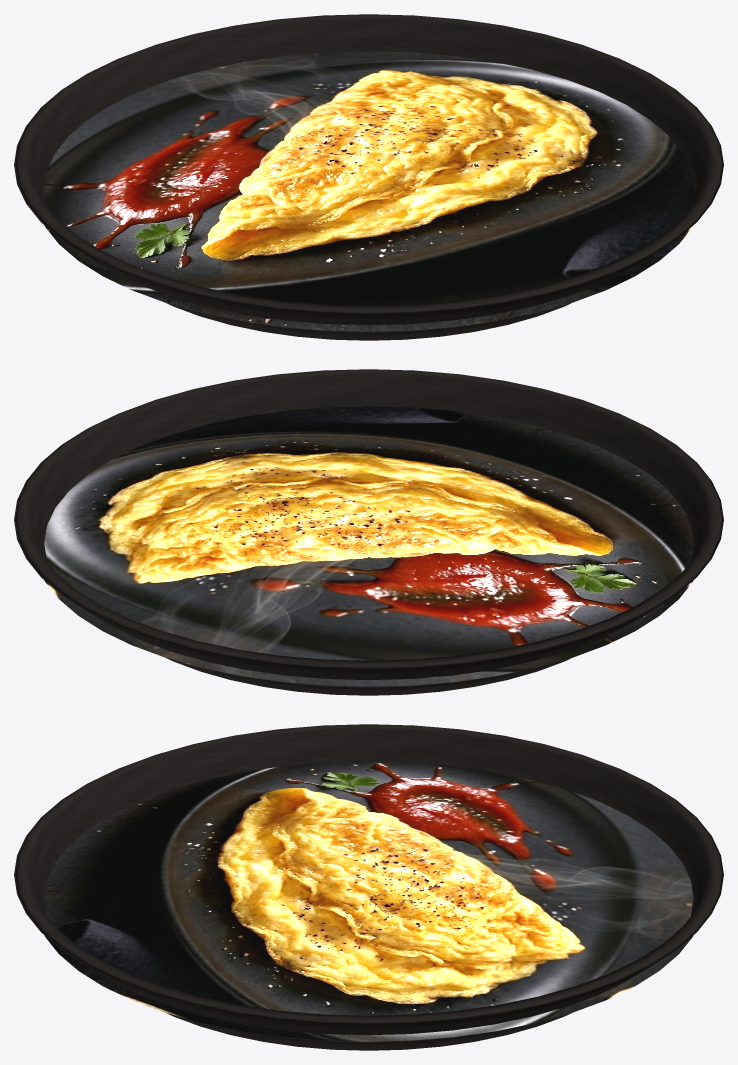
Rendered from plain-omelette.glb.
3 views of the same model, one above another, from view 1: azimuth 30°, elevation 25°; view 2: azimuth 150°, elevation 25°; view 3: azimuth 270°, elevation 25° (orthographic).
Parts seen in each view (by area): view 1: FoodMound, StonewareVessel; view 2: FoodMound, StonewareVessel; view 3: FoodMound, StonewareVessel.
Boxes of the visible parts, x1,y1,x2,y2 form: FoodMound: (44,51,693,331); StonewareVessel: (14,14,723,340); FoodMound: (44,406,693,686); StonewareVessel: (14,369,723,695); FoodMound: (44,761,693,1041); StonewareVessel: (14,724,723,1050).
Size of the model in its own units: 0.21 by 0.0225 by 0.21.
Materials: 2 (2 with a texture image).
